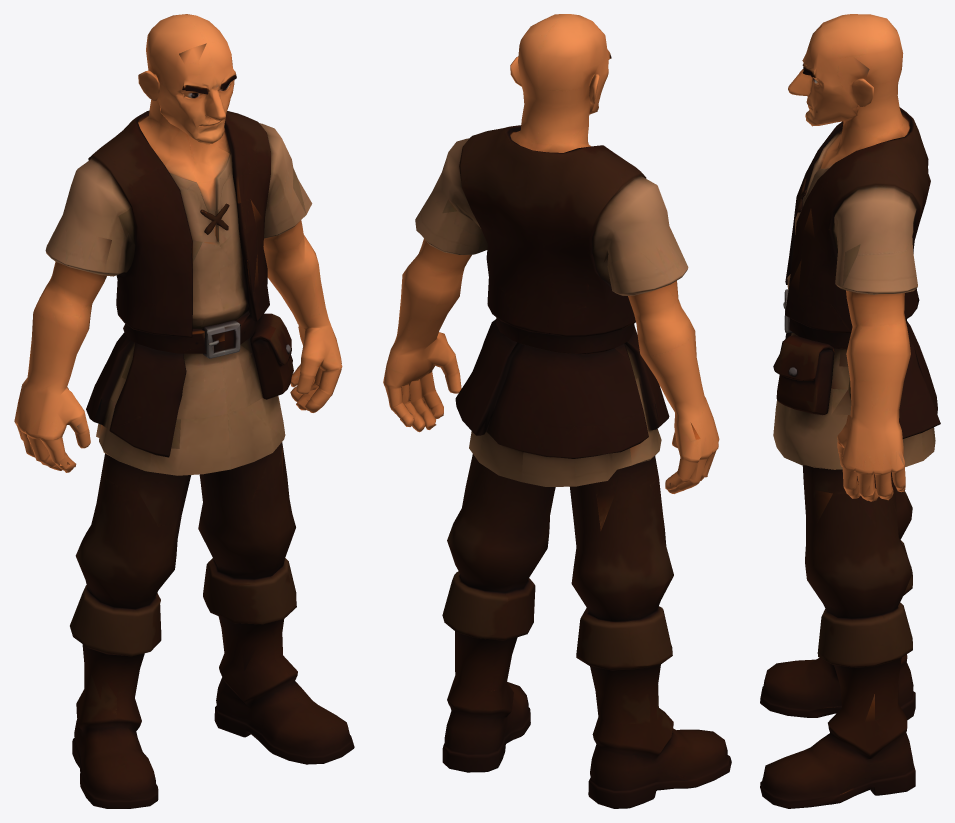
Rendered from koerper.glb.
3 views of the same model, side by side, from view 1: azimuth 30°, elevation 25°; view 2: azimuth 150°, elevation 25°; view 3: azimuth 270°, elevation 25° (orthographic). The views are drawn at different scales.
Visible parts, largest first — view 1: koerper; view 2: koerper; view 3: koerper.
Boxes of the visible parts, box(x1,y1,x2,y2) form: koerper: box(14, 14, 354, 808); koerper: box(383, 14, 731, 808); koerper: box(760, 14, 940, 808).
Bounding box in the file's own units: 0.8034 × 1.8 × 0.4031.
Materials: 1 (1 with a texture image).
